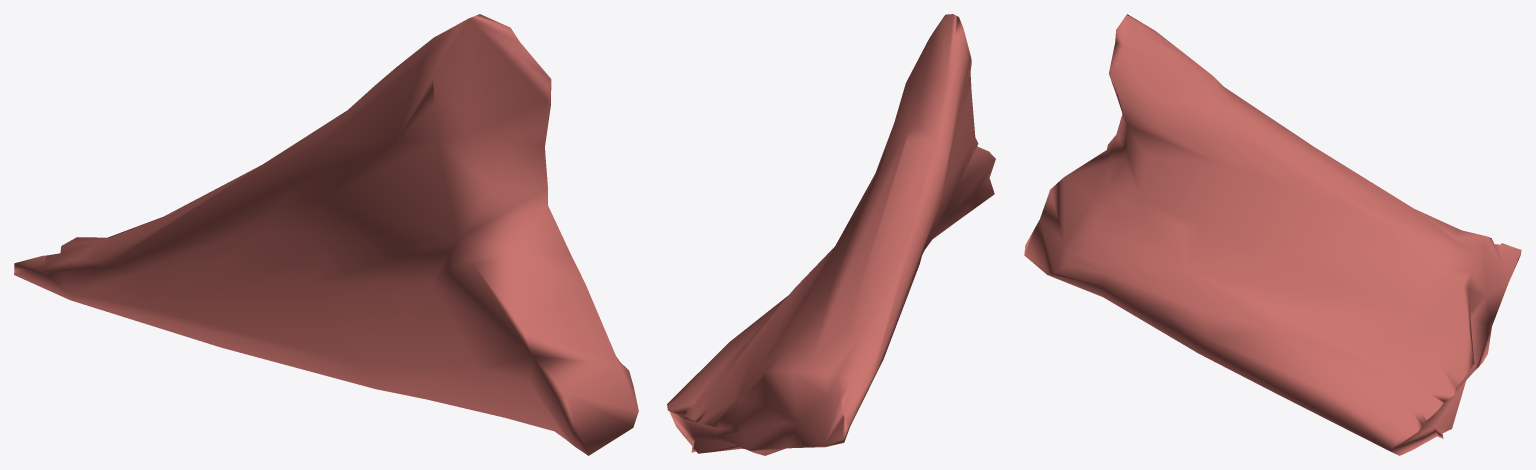
3 renders of one model, left to right at view 1: azimuth 30°, elevation 25°; view 2: azimuth 150°, elevation 25°; view 3: azimuth 270°, elevation 25°, orthographic. The views are drawn at different scales.
Parts seen in each view (by area): view 1: 右侧头外侧直肌; view 2: 右侧头外侧直肌; view 3: 右侧头外侧直肌.
Boxes of the visible parts, <box> form: 右侧头外侧直肌: <box>14,14,638,455</box>; 右侧头外侧直肌: <box>667,14,995,455</box>; 右侧头外侧直肌: <box>1024,14,1521,455</box>.
Size of the model in its own units: 0.0181 by 0.0256 by 0.0314.
